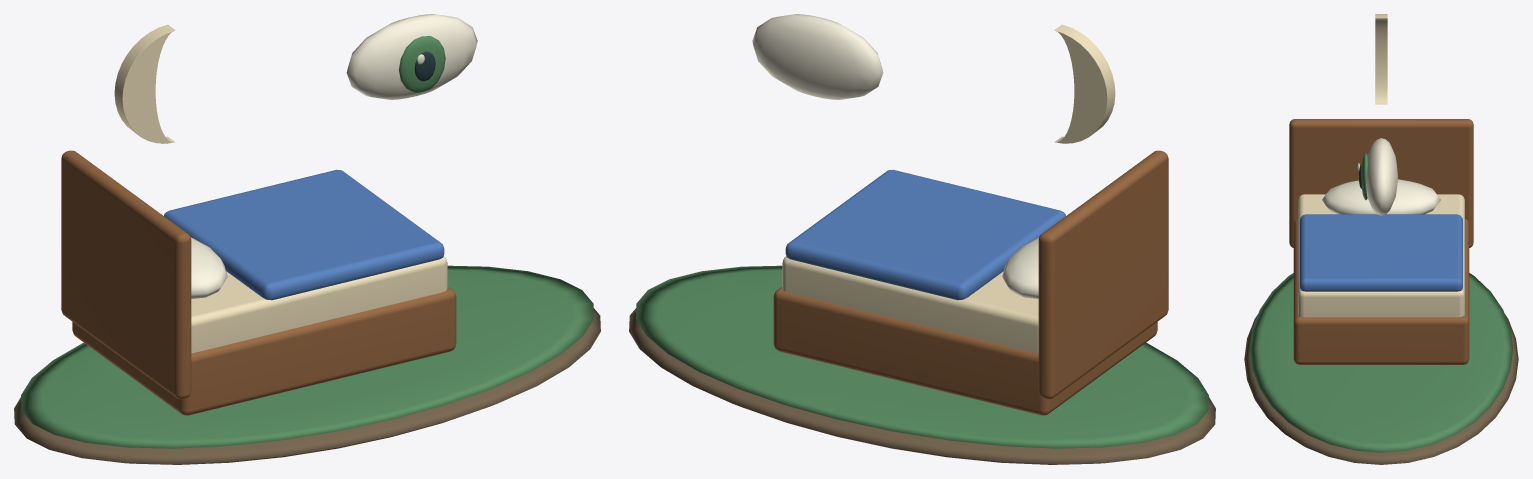
Rendered from sleep-notice.glb.
3 views of the same model, side by side, from view 1: azimuth 30°, elevation 25°; view 2: azimuth 150°, elevation 25°; view 3: azimuth 270°, elevation 25° (orthographic). The views are drawn at different scales.
Visible parts, largest first — view 1: sleep-notice_surface_02, sleep-notice_surface_01, sleep-notice_surface_04, sleep-notice_surface_03, sleep-notice_surface_00, sleep-notice_surface_05; view 2: sleep-notice_surface_02, sleep-notice_surface_01, sleep-notice_surface_04, sleep-notice_surface_03, sleep-notice_surface_00, sleep-notice_surface_05; view 3: sleep-notice_surface_01, sleep-notice_surface_02, sleep-notice_surface_04, sleep-notice_surface_03, sleep-notice_surface_05, sleep-notice_surface_00.
Part boxes in pixels (x1,y1,x2,y2): sleep-notice_surface_02: (61,150,456,415); sleep-notice_surface_01: (21,36,593,448); sleep-notice_surface_04: (164,169,444,300); sleep-notice_surface_03: (114,24,447,353); sleep-notice_surface_00: (14,308,600,464); sleep-notice_surface_05: (191,14,477,298); sleep-notice_surface_02: (773,150,1168,415); sleep-notice_surface_01: (636,265,1208,448); sleep-notice_surface_04: (785,169,1065,300); sleep-notice_surface_03: (782,24,1115,353); sleep-notice_surface_00: (629,308,1215,464); sleep-notice_surface_05: (752,14,1038,298); sleep-notice_surface_01: (1249,153,1513,452); sleep-notice_surface_02: (1289,119,1473,364); sleep-notice_surface_04: (1300,214,1462,291); sleep-notice_surface_03: (1298,14,1464,317); sleep-notice_surface_05: (1322,138,1440,215); sleep-notice_surface_00: (1244,314,1518,464).
Bounding box in the file's own units: 4.56 × 3.04 × 2.5.
